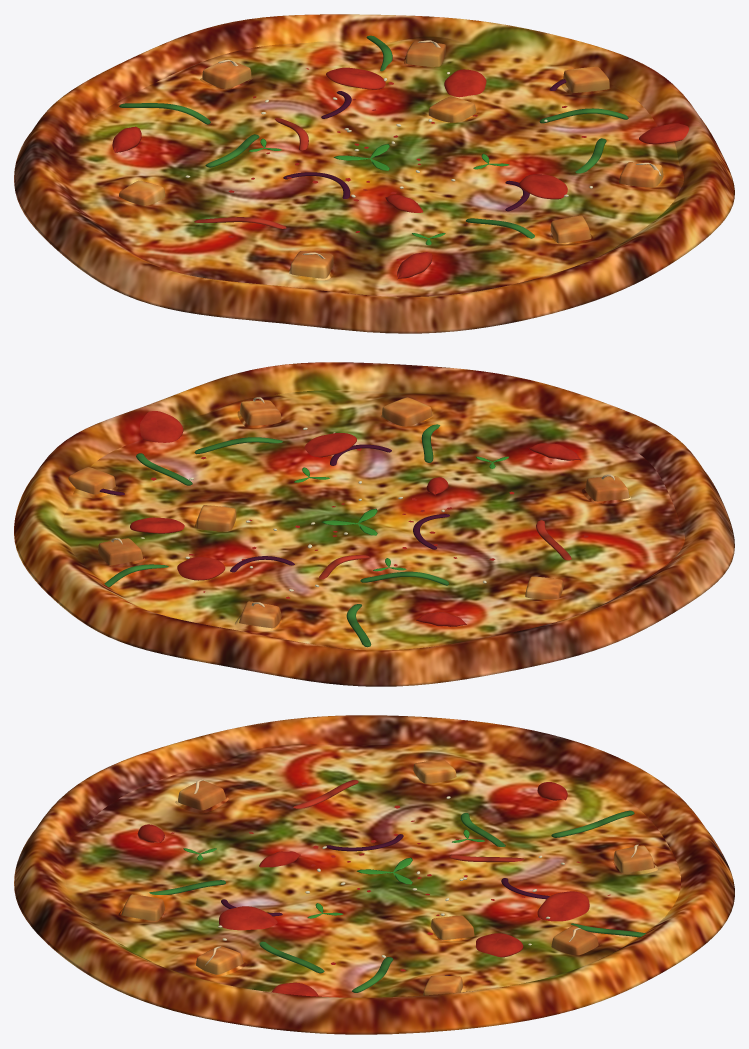
Rendered from tandoori-paneer-pizza-high.glb.
3 views of the same model, one above another, from view 1: azimuth 30°, elevation 25°; view 2: azimuth 150°, elevation 25°; view 3: azimuth 270°, elevation 25° (orthographic).
Parts seen in each view (by area): view 1: Paneer_01_TopCenter, Pizza_Neapolitan_Crust, Paneer_01_TopCenter.001, Tomato_01_Half_TopRight, Pepper_Green_01_TopLeft, Onion_01_MidLeft, Pepper_Red_01_CenterLeft, Cilantro_Garnish_01; view 2: Paneer_01_TopCenter, Pizza_Neapolitan_Crust, Paneer_01_TopCenter.001, Tomato_01_Half_TopRight, Pepper_Green_01_TopLeft, Onion_01_MidLeft, Cilantro_Garnish_01, Pepper_Red_01_CenterLeft; view 3: Paneer_01_TopCenter, Pizza_Neapolitan_Crust, Paneer_01_TopCenter.001, Tomato_01_Half_TopRight, Pepper_Green_01_TopLeft, Pepper_Red_01_CenterLeft, Cilantro_Garnish_01, Onion_01_MidLeft.
Part boxes in pixels (bbox=[...]): Paneer_01_TopCenter: bbox=[67, 36, 683, 296]; Pizza_Neapolitan_Crust: bbox=[14, 14, 734, 333]; Paneer_01_TopCenter.001: bbox=[119, 41, 663, 278]; Tomato_01_Half_TopRight: bbox=[112, 67, 688, 279]; Pepper_Green_01_TopLeft: bbox=[119, 35, 628, 238]; Onion_01_MidLeft: bbox=[283, 79, 566, 211]; Pepper_Red_01_CenterLeft: bbox=[194, 118, 308, 228]; Cilantro_Garnish_01: bbox=[249, 138, 509, 245]; Paneer_01_TopCenter: bbox=[62, 390, 684, 650]; Pizza_Neapolitan_Crust: bbox=[14, 362, 734, 686]; Paneer_01_TopCenter.001: bbox=[68, 397, 629, 628]; Tomato_01_Half_TopRight: bbox=[130, 411, 580, 626]; Pepper_Green_01_TopLeft: bbox=[104, 424, 449, 647]; Onion_01_MidLeft: bbox=[99, 444, 449, 572]; Cilantro_Garnish_01: bbox=[294, 456, 508, 571]; Pepper_Red_01_CenterLeft: bbox=[319, 520, 571, 579]; Paneer_01_TopCenter: bbox=[64, 743, 681, 997]; Pizza_Neapolitan_Crust: bbox=[14, 715, 734, 1034]; Paneer_01_TopCenter.001: bbox=[121, 759, 654, 995]; Tomato_01_Half_TopRight: bbox=[137, 782, 589, 996]; Pepper_Green_01_TopLeft: bbox=[149, 810, 645, 992]; Pepper_Red_01_CenterLeft: bbox=[293, 780, 524, 862]; Cilantro_Garnish_01: bbox=[183, 829, 484, 918]; Onion_01_MidLeft: bbox=[221, 834, 549, 975].
Bounding box in the file's own units: 2.4 × 0.1184 × 2.4.
11 materials, 7 textured.
